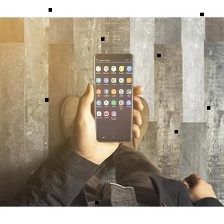phone: (91, 50, 135, 144)
